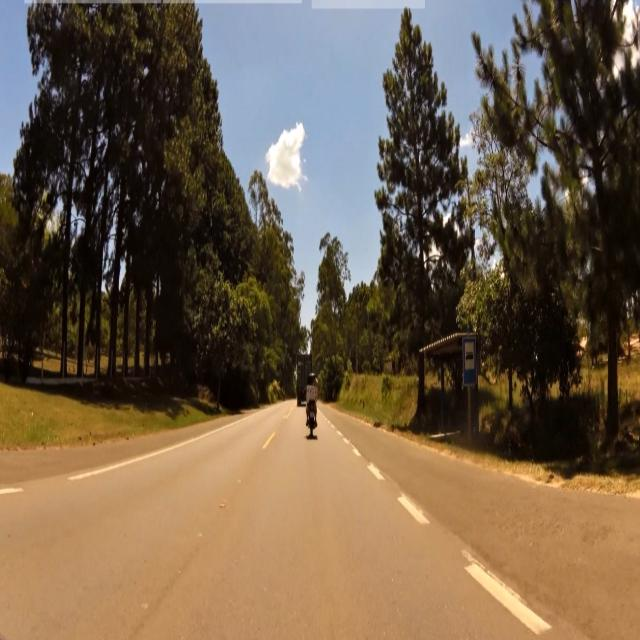S-14: (462, 338, 476, 387)
